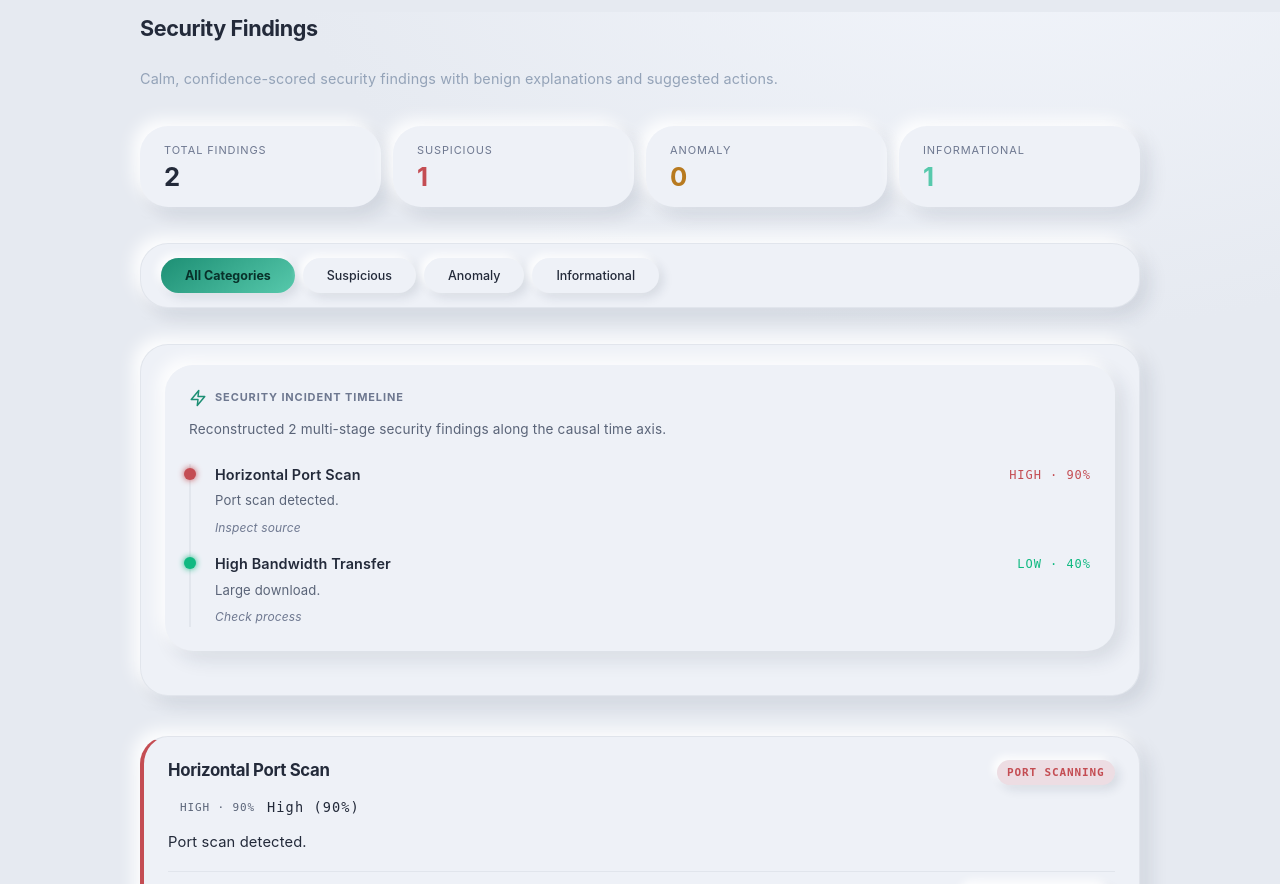
Security Screen & useSecurityController › filters findings by category chip selection
This screenshot has width=1280, height=884.
Expected: the text "Horizontal Port Scan" is shown, [215,464,361,486]
Expected: the text "High Bandwidth Transfer" is shown, [215,553,391,576]
Note: Click "Suspicious" filter chip
Click the button "Suspicious".
click(359, 276)  # box [303,258,416,293]
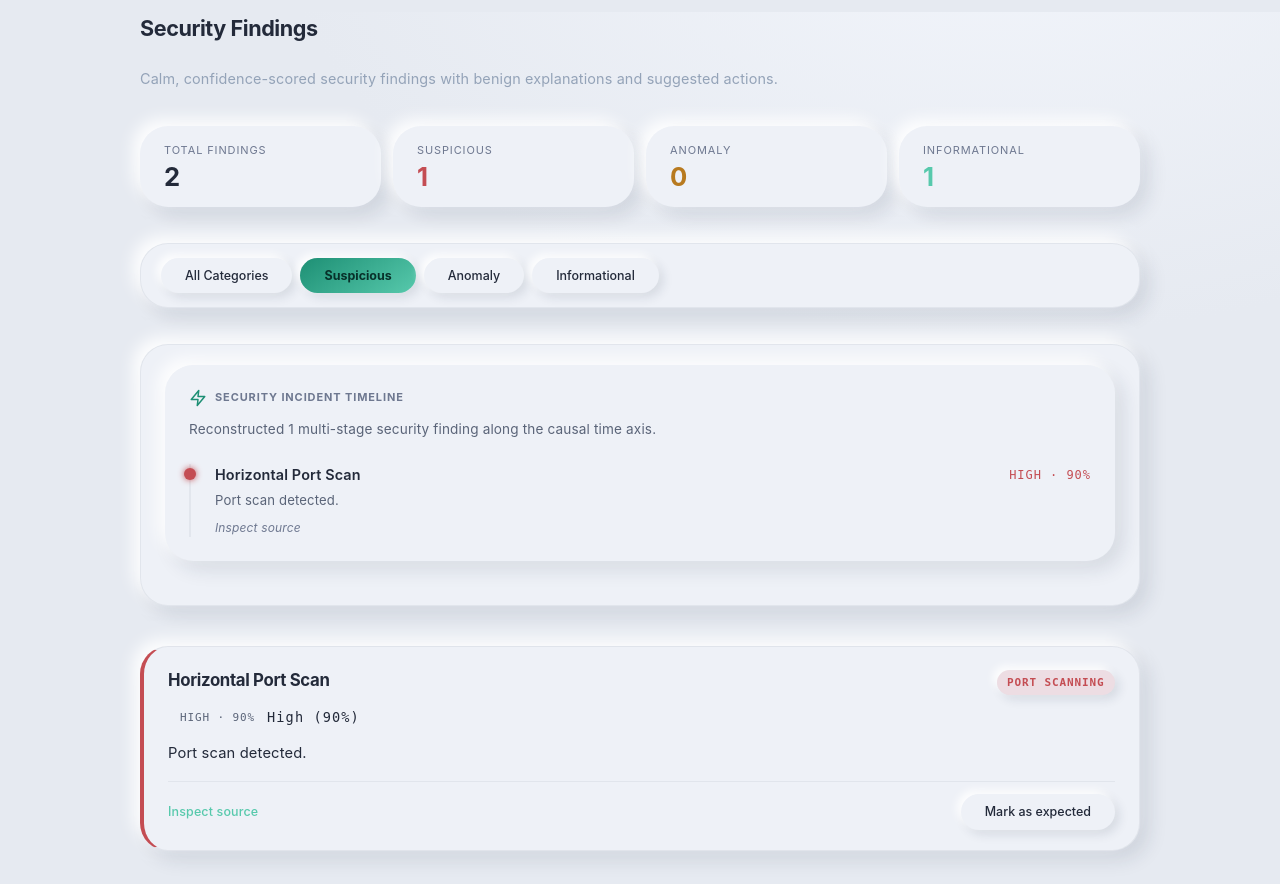
Expected: the text "Horizontal Port Scan" is shown, [215,464,361,486]
Now the text "High Bandwidth Transfer" is gone
